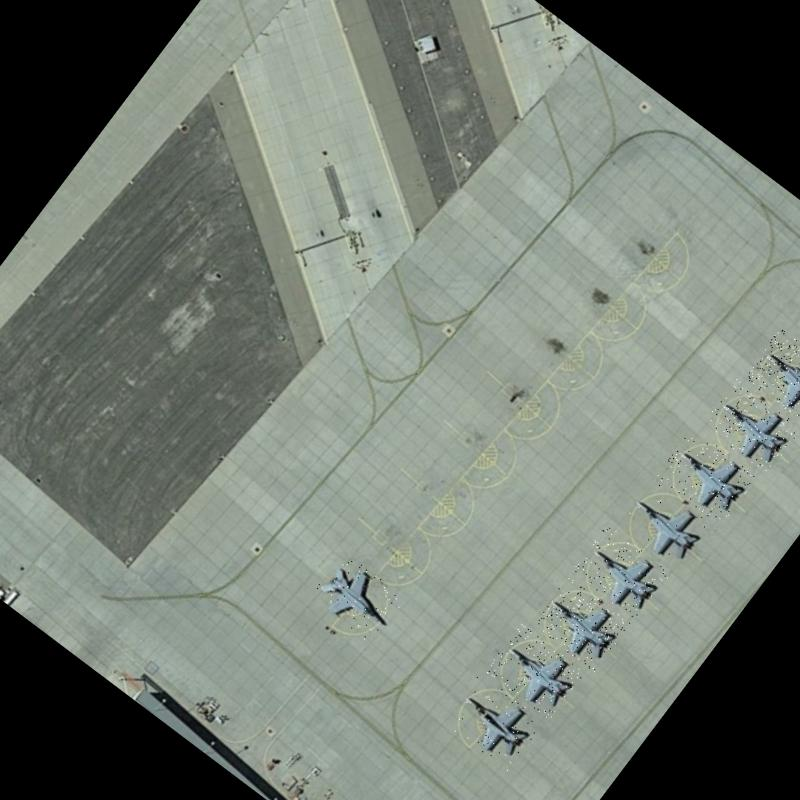A16: (655, 428, 759, 528), (442, 673, 544, 771), (570, 524, 672, 622), (484, 624, 586, 720), (308, 551, 409, 647), (531, 576, 631, 672), (701, 379, 800, 475), (614, 477, 713, 572), (742, 328, 800, 427)
